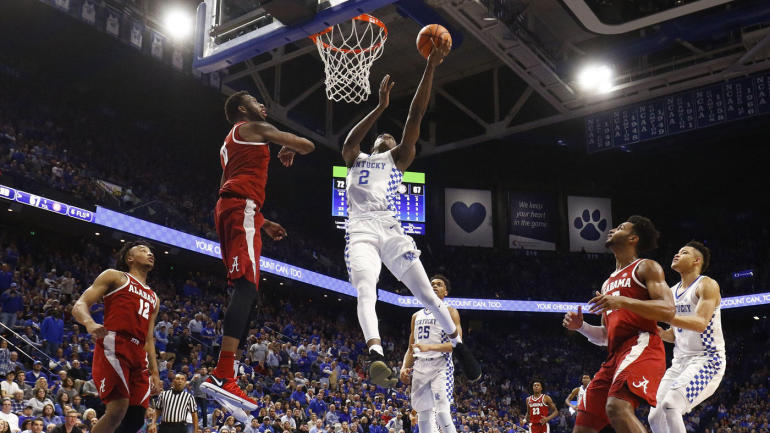ball: (401, 20, 453, 70)
basket: (307, 5, 388, 114)
defense: (184, 87, 317, 426)
shoot: (334, 14, 456, 390)
